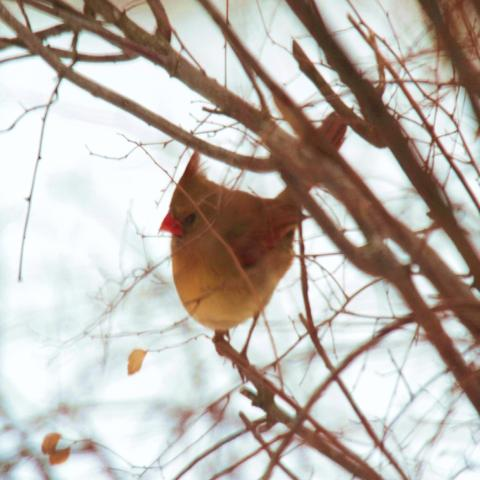bird: (132, 104, 353, 384)
